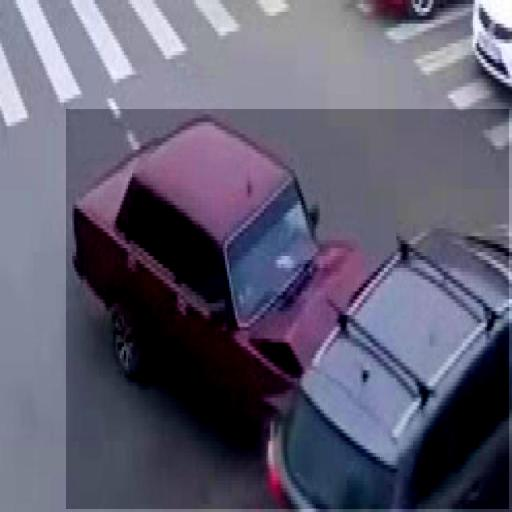小汽车撞小汽车: (66, 109, 509, 509)
